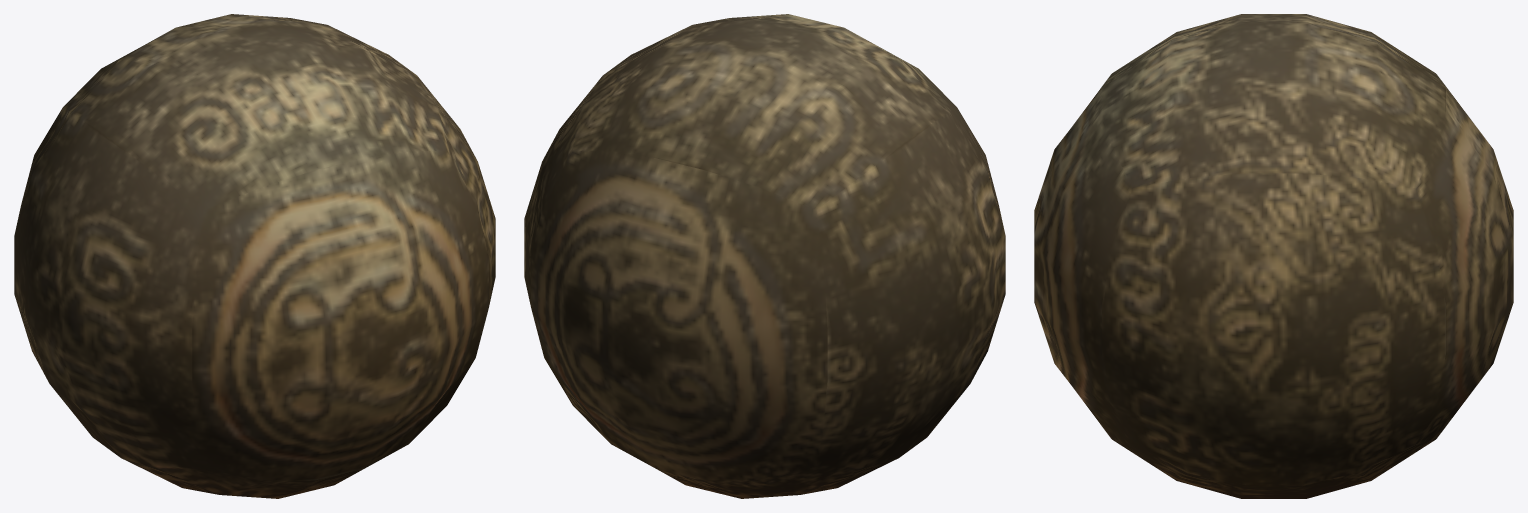
Rendered from KhotBullet.fbx.
The picture shows the model from 3 angles, left to right: view 1: azimuth 30°, elevation 25°; view 2: azimuth 150°, elevation 25°; view 3: azimuth 270°, elevation 25°; orthographic projection.
Parts seen in each view (by area): view 1: BulletKhot; view 2: BulletKhot; view 3: BulletKhot.
Part boxes in pixels (bbox=[...]): BulletKhot: bbox=[14, 14, 495, 498]; BulletKhot: bbox=[524, 14, 1005, 498]; BulletKhot: bbox=[1034, 14, 1513, 498].
Bounding box in the file's own units: 196 × 196 × 196.
Materials: 1 (1 with a texture image).
